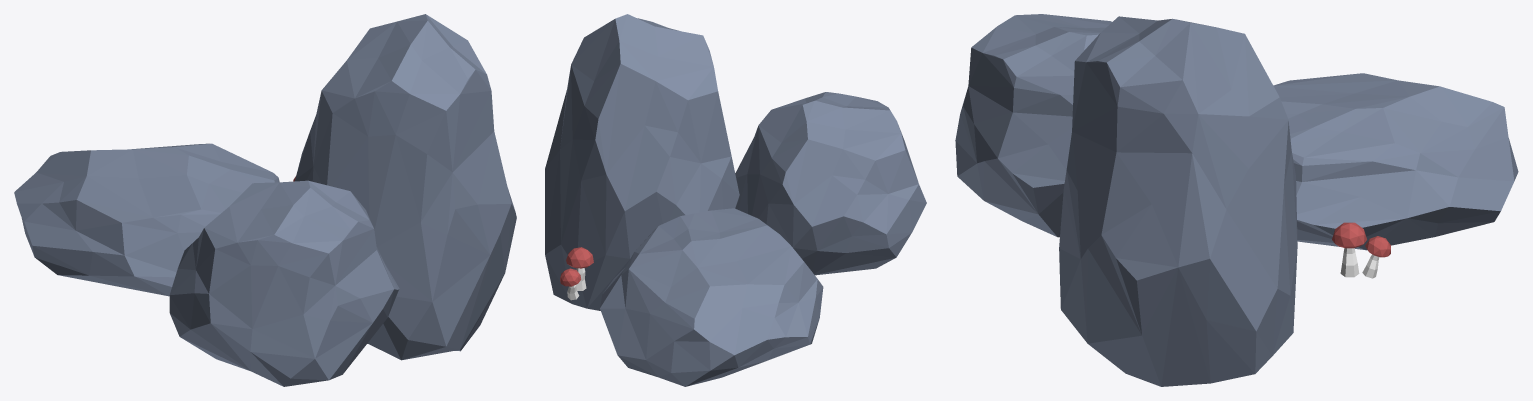
The model's file is rrrfbx.fbx.
3 views of the same model, side by side, from view 1: azimuth 30°, elevation 25°; view 2: azimuth 150°, elevation 25°; view 3: azimuth 270°, elevation 25° (orthographic). The views are drawn at different scales.
Parts seen in each view (by area): view 1: Cube.008, Cube.007, Cube.010; view 2: Cube.008, Cube.010, Cube.007, Cylinder, Cylinder.001; view 3: Cube.008, Cube.010, Cube.007, Cylinder, Cylinder.001.
Boxes of the visible parts, bbox=[...] form: Cube.008: bbox=[295, 14, 516, 360]; Cube.007: bbox=[169, 180, 399, 386]; Cube.010: bbox=[14, 143, 279, 296]; Cube.008: bbox=[545, 14, 739, 310]; Cube.010: bbox=[600, 208, 823, 386]; Cube.007: bbox=[735, 92, 926, 275]; Cylinder: bbox=[566, 247, 593, 290]; Cylinder.001: bbox=[560, 268, 581, 300]; Cube.008: bbox=[1059, 16, 1297, 386]; Cube.010: bbox=[1273, 73, 1518, 250]; Cube.007: bbox=[955, 14, 1111, 237]; Cylinder: bbox=[1332, 222, 1366, 277]; Cylinder.001: bbox=[1362, 236, 1390, 278].
Size of the model in its own units: 11.31 by 9.09 by 13.3.
